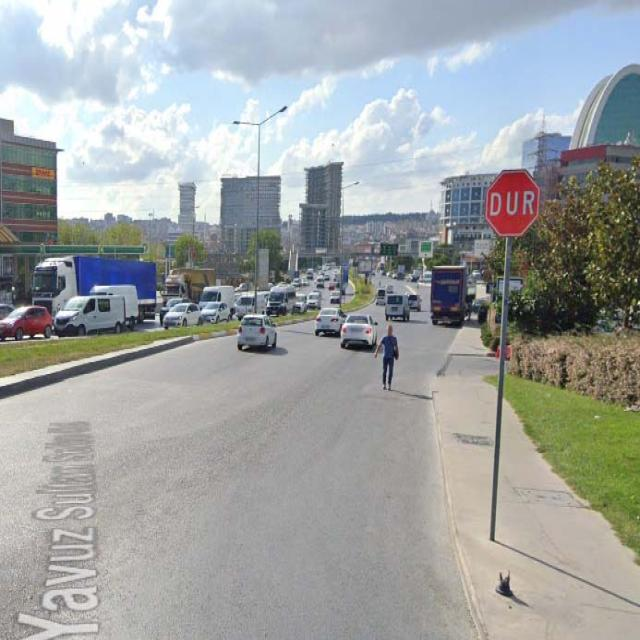dur: (486, 168, 541, 238)
